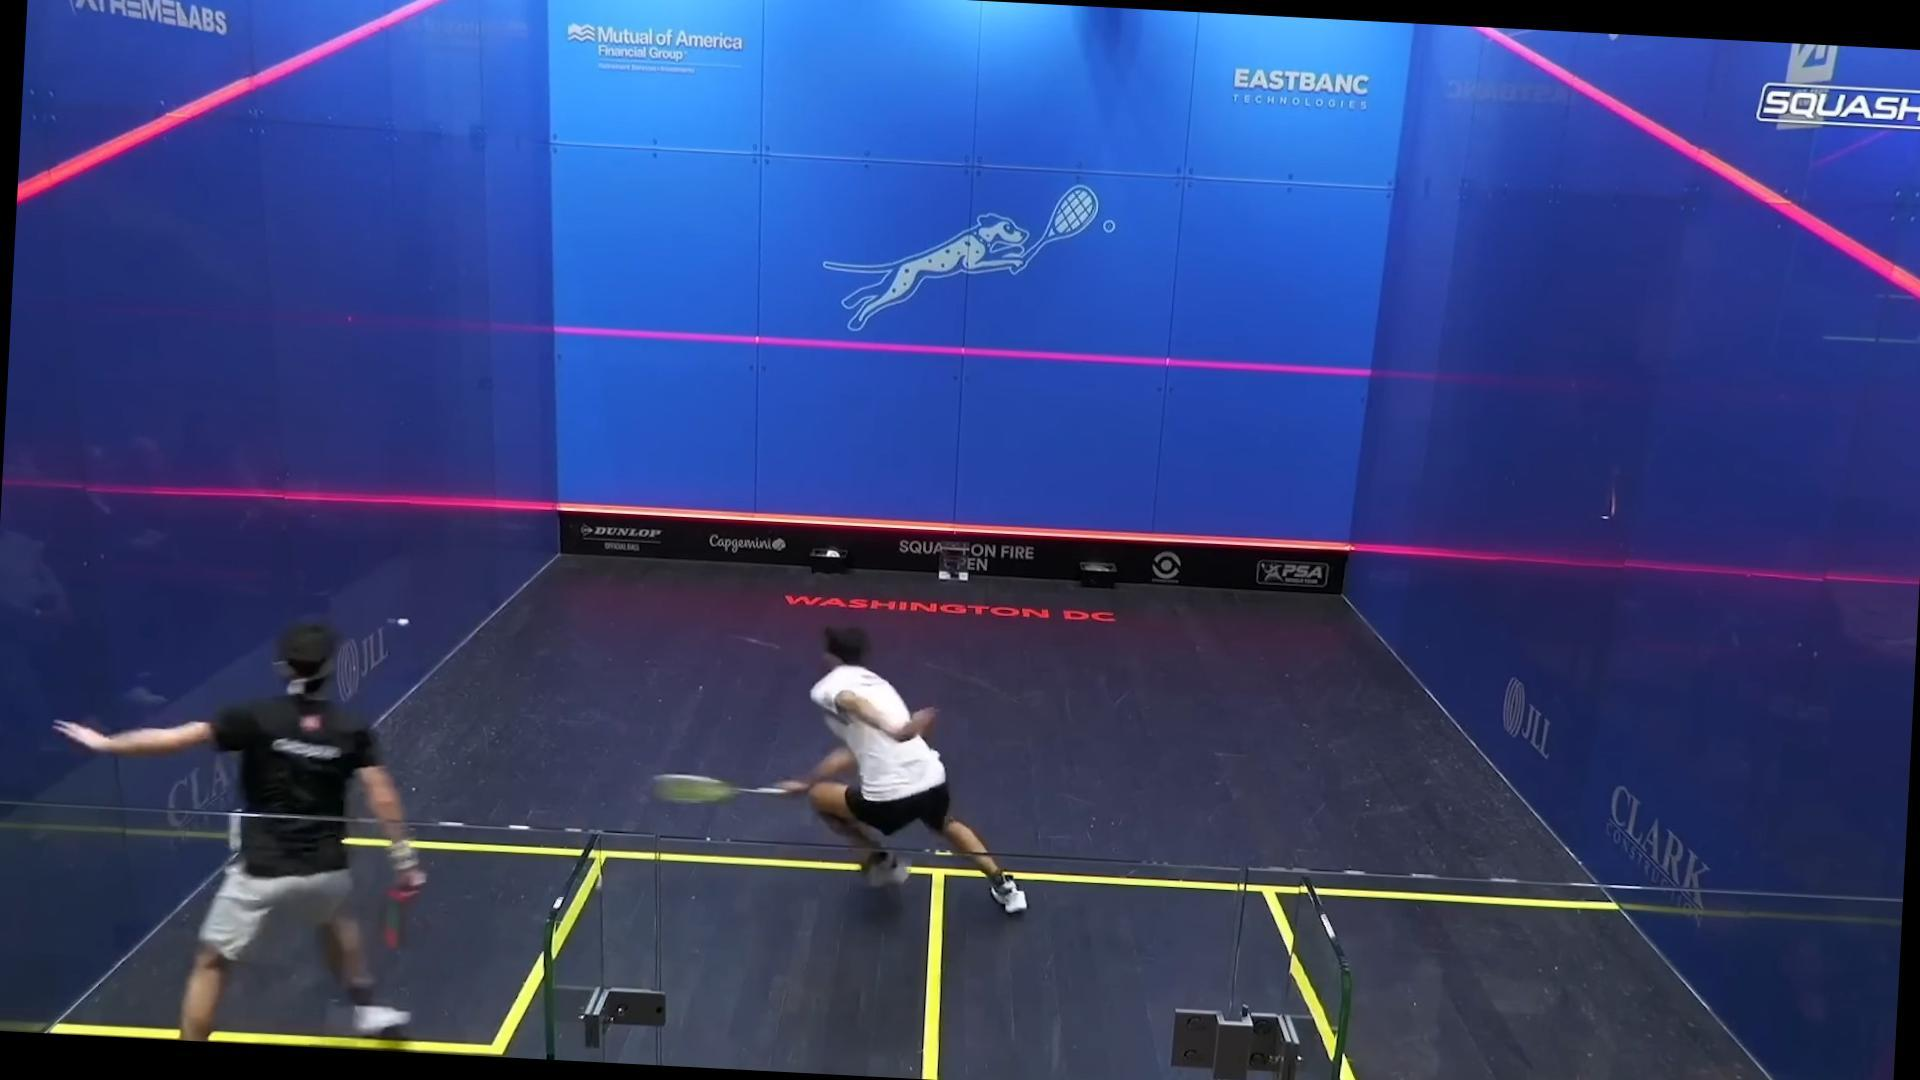Squash-Ball: (380, 601, 427, 642)
